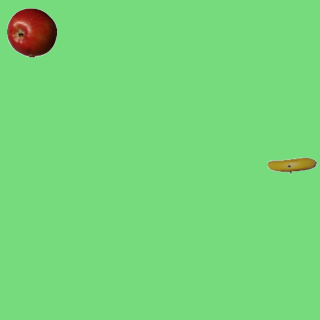Apple Braeburn: (6, 7, 56, 57)
Banana: (266, 140, 316, 190)
